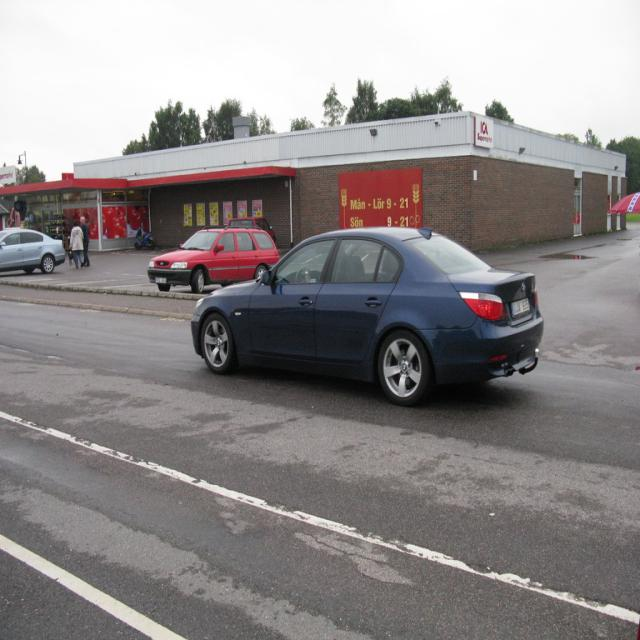car: (169, 218, 536, 404)
